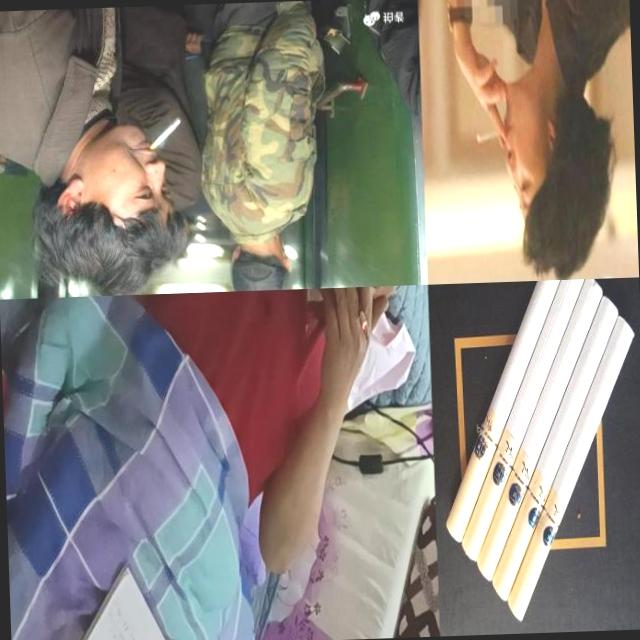cigarette: (481, 294, 628, 602), (466, 279, 614, 582), (498, 315, 640, 622), (452, 280, 598, 562), (438, 280, 582, 544), (148, 116, 184, 150), (356, 299, 370, 340), (476, 126, 500, 144)
